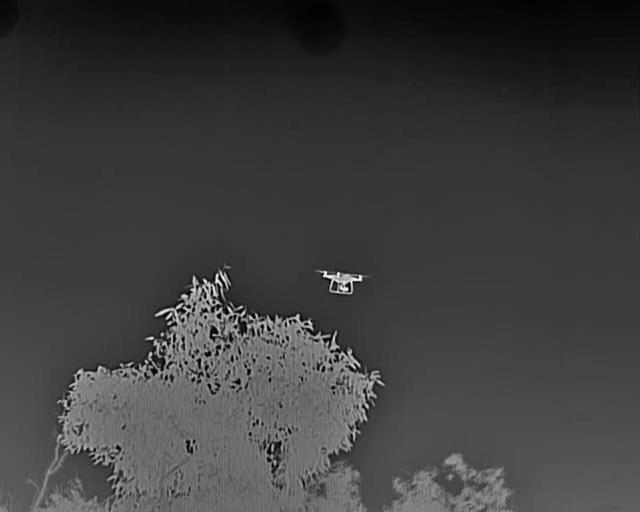DJI-Phantom: (314, 264, 371, 298)
